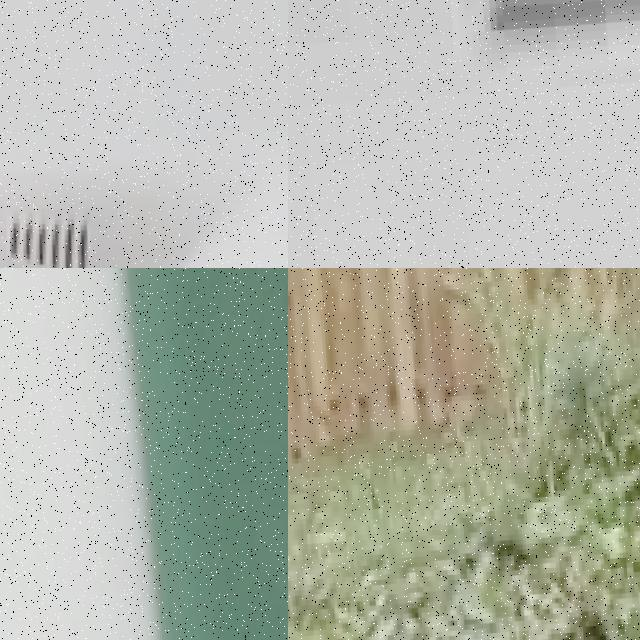drone: (0, 0, 288, 268)
